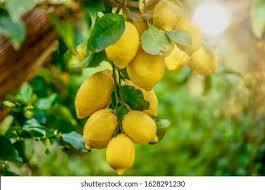lemon: (75, 68, 113, 119), (127, 44, 164, 91), (105, 22, 139, 69), (83, 108, 118, 150), (122, 79, 158, 118), (106, 133, 135, 175), (122, 110, 158, 143), (174, 16, 201, 57), (188, 46, 217, 76), (152, 0, 178, 31), (165, 44, 191, 72)
